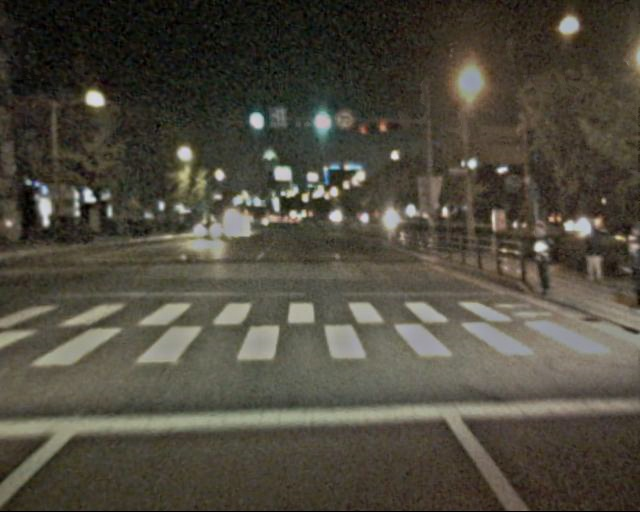person: (521, 225, 558, 303), (607, 227, 640, 313), (572, 219, 608, 290)
